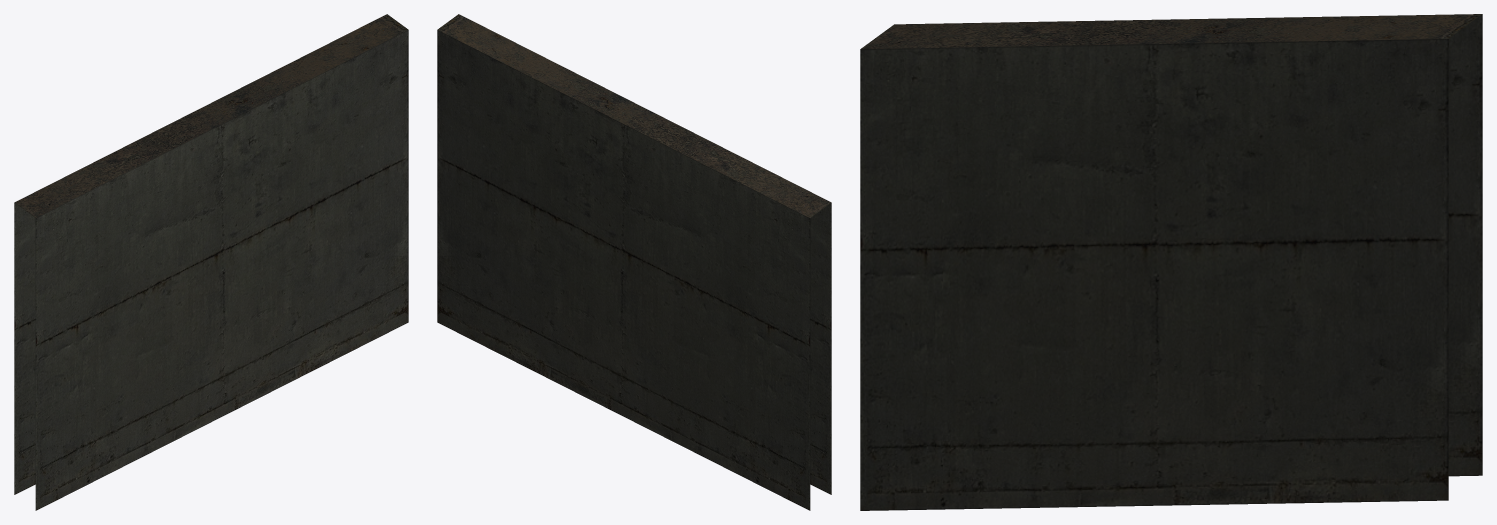
The model's file is wall_rg_1_angle.fbx.
The picture shows the model from 3 angles, left to right: view 1: azimuth 30°, elevation 25°; view 2: azimuth 150°, elevation 25°; view 3: azimuth 330°, elevation 25°; orthographic projection. The views are drawn at different scales.
Parts seen in each view (by area): view 1: wall_rg_1_angle; view 2: wall_rg_1_angle; view 3: wall_rg_1_angle.
Part boxes in pixels (x1,y1,x2,y2): wall_rg_1_angle: (14,14,408,510); wall_rg_1_angle: (437,14,831,510); wall_rg_1_angle: (860,14,1482,510).
Size of the model in its own units: 4 by 0.4 by 4.
